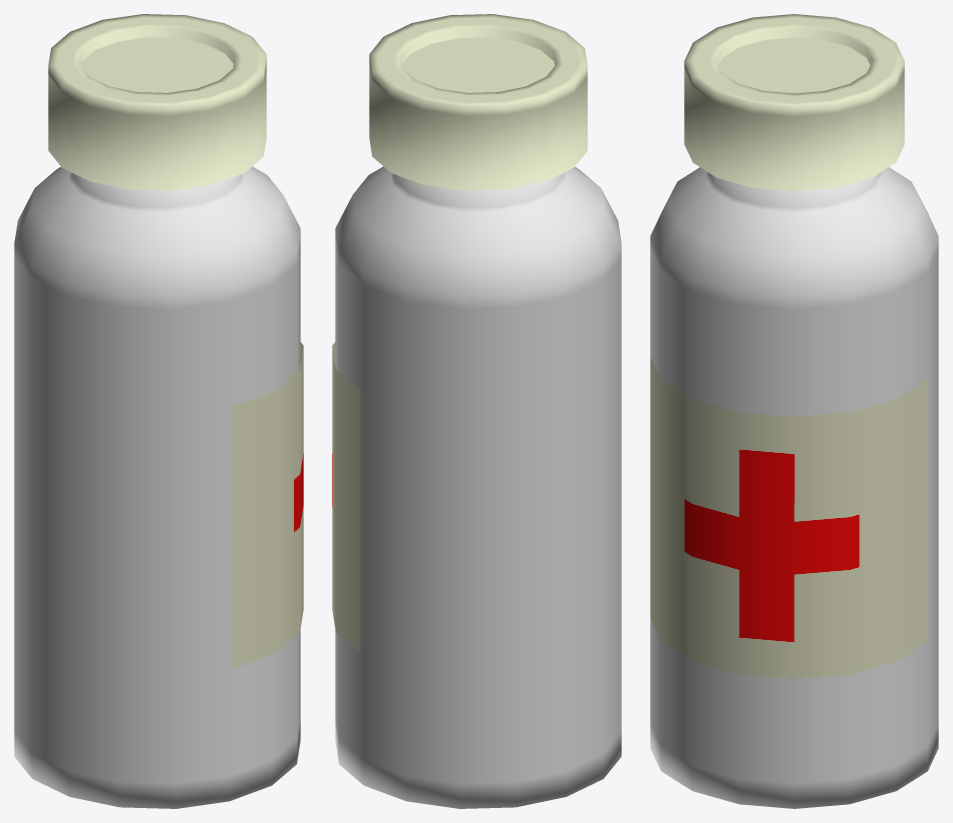
File: BotellaPersonaje.fbx
3 views of the same model, side by side, from view 1: azimuth 30°, elevation 25°; view 2: azimuth 150°, elevation 25°; view 3: azimuth 270°, elevation 25° (orthographic).
Parts seen in each view (by area): view 1: Etiqueta; view 2: Etiqueta; view 3: Etiqueta.
Boxes of the visible parts, left/top/right/bottom form: Etiqueta: left=14, top=14, right=303, bottom=808; Etiqueta: left=332, top=14, right=621, bottom=808; Etiqueta: left=650, top=14, right=938, bottom=808.
Size of the model in its own units: 202 by 526 by 200.
4 materials, 1 textured.
